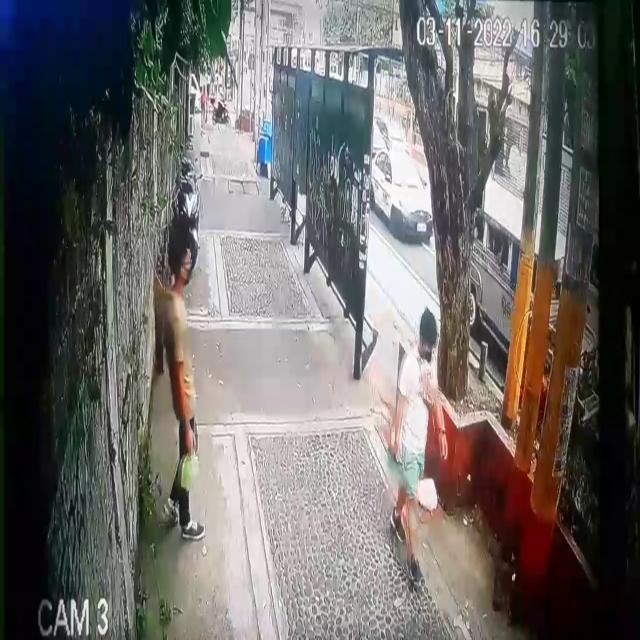human: (391, 302, 441, 592), (162, 229, 205, 540)
